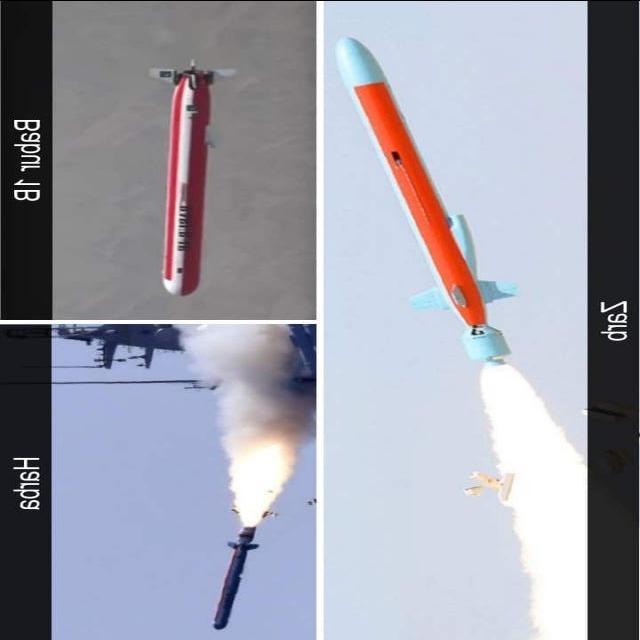missile: (331, 29, 523, 370), (144, 56, 229, 301), (199, 516, 260, 631)
